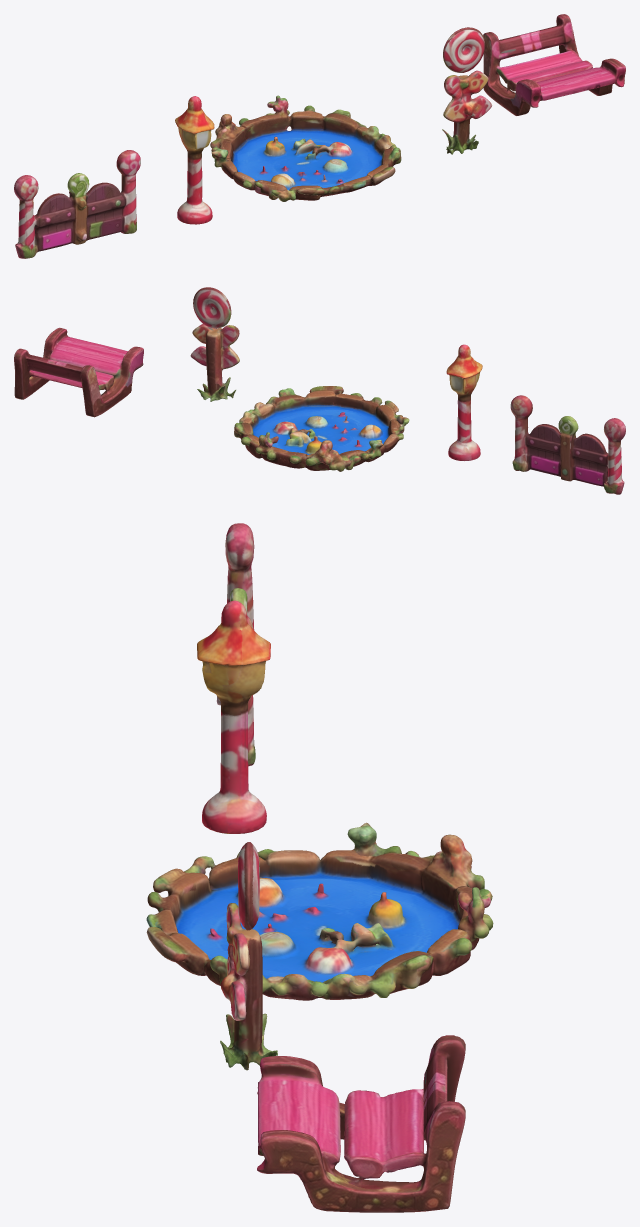
The model's file is Meshy_AI_Candyland_Park_1019071547_texture.fbx.
3 views of the same model, one above another, from view 1: azimuth 30°, elevation 25°; view 2: azimuth 150°, elevation 25°; view 3: azimuth 270°, elevation 25° (orthographic). The views are drawn at different scales.
Parts seen in each view (by area): view 1: Mesh_0; view 2: Mesh_0; view 3: Mesh_0.
Boxes of the visible parts, left/top/right/bottom form: Mesh_0: left=14, top=14, right=625, bottom=258; Mesh_0: left=14, top=287, right=625, bottom=494; Mesh_0: left=146, top=523, right=493, bottom=1212.
Size of the model in its own units: 190 by 36.21 by 50.75.
Materials: 1 (1 with a texture image).
